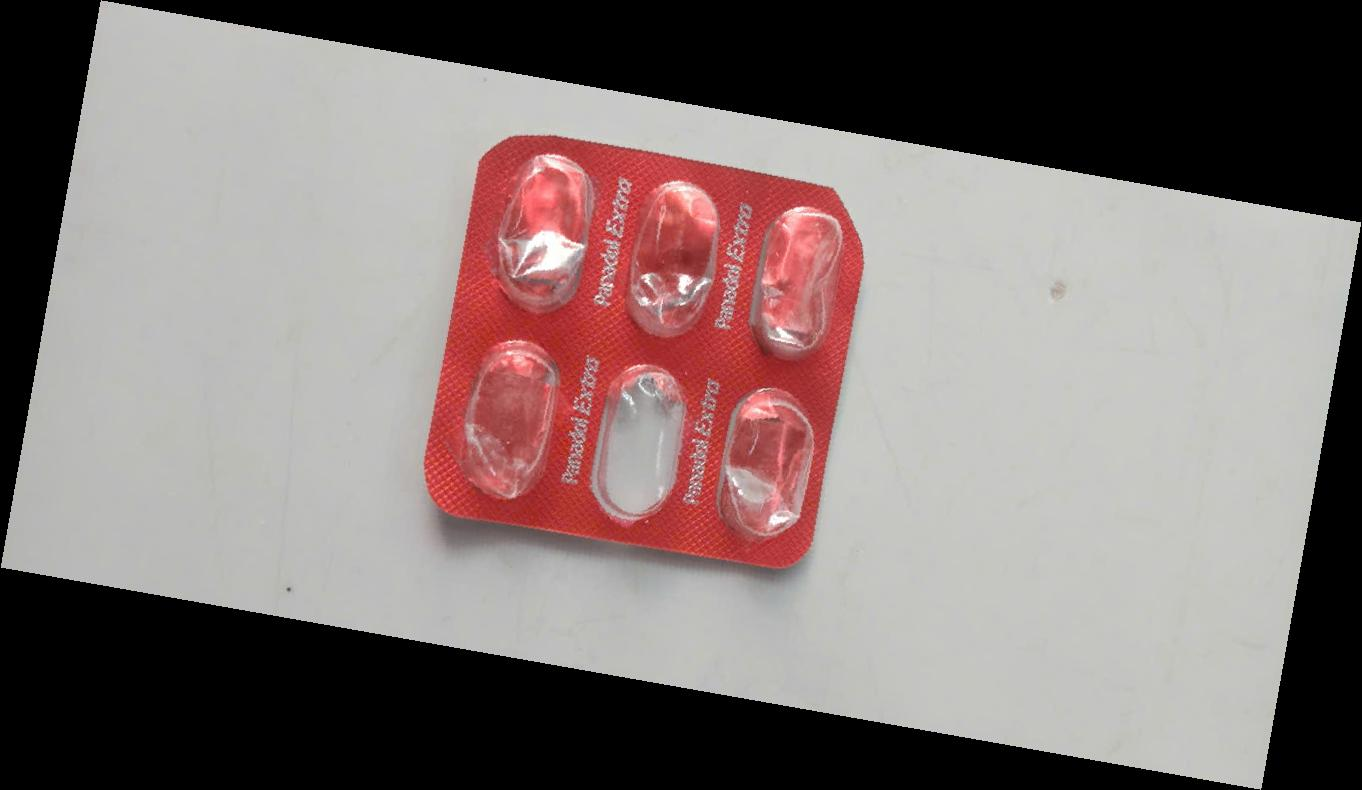Empty: (479, 141, 613, 327), (608, 167, 742, 353), (732, 189, 866, 375), (573, 347, 707, 533), (702, 371, 836, 557), (443, 327, 577, 512)
